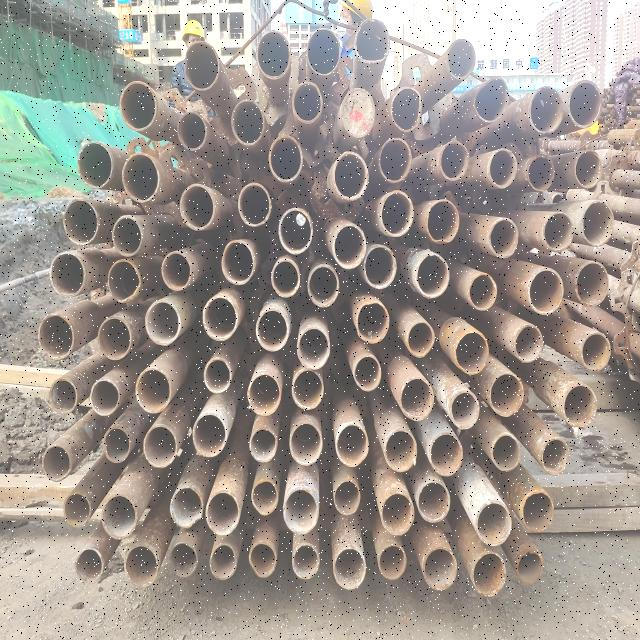pipe: (419, 432, 467, 484), (337, 85, 380, 137), (132, 368, 176, 418), (118, 78, 158, 132), (428, 138, 473, 186), (331, 150, 372, 202), (294, 320, 332, 374), (409, 250, 452, 296), (122, 152, 160, 204), (178, 184, 219, 232), (236, 181, 278, 227), (382, 429, 424, 475), (143, 299, 184, 346), (421, 546, 458, 598), (255, 29, 292, 80), (201, 294, 242, 340), (184, 41, 220, 93), (78, 140, 114, 192), (252, 302, 291, 350), (290, 418, 326, 470), (288, 80, 330, 124), (328, 220, 368, 266), (84, 376, 124, 422), (452, 329, 490, 377), (50, 250, 88, 298), (278, 204, 314, 254), (362, 246, 402, 291), (63, 198, 101, 245), (190, 412, 228, 459), (530, 264, 564, 316), (567, 78, 602, 128), (353, 19, 391, 65), (282, 488, 320, 534), (268, 134, 304, 182), (38, 312, 74, 359), (306, 28, 341, 76), (158, 252, 198, 294), (528, 86, 564, 132), (230, 100, 266, 146), (101, 493, 137, 539), (334, 421, 369, 468), (110, 217, 148, 260), (490, 372, 528, 415), (222, 238, 256, 286), (474, 76, 510, 121), (142, 424, 178, 469), (207, 488, 240, 536), (477, 501, 512, 546), (581, 201, 615, 247), (380, 191, 414, 237), (576, 261, 610, 307), (333, 546, 367, 592), (473, 552, 507, 598), (388, 89, 424, 132), (399, 379, 435, 422), (426, 200, 461, 244), (98, 317, 132, 362), (561, 384, 595, 429), (378, 138, 413, 181), (484, 146, 518, 190), (357, 300, 391, 344), (292, 368, 326, 412), (247, 373, 281, 417), (380, 490, 414, 534), (488, 432, 524, 473), (308, 264, 340, 310), (170, 486, 203, 530), (125, 546, 159, 588), (580, 330, 612, 374), (522, 491, 554, 535), (416, 481, 451, 521), (108, 263, 142, 303), (512, 323, 546, 362), (446, 37, 476, 81), (488, 217, 520, 258), (176, 111, 208, 151), (101, 424, 133, 464), (575, 148, 603, 192), (466, 272, 498, 310), (544, 212, 574, 252), (272, 258, 302, 298), (41, 444, 72, 482), (448, 392, 482, 426), (74, 548, 106, 584), (526, 154, 556, 192), (354, 356, 384, 394), (203, 356, 233, 394), (332, 478, 362, 516), (209, 543, 239, 581), (249, 427, 282, 461), (49, 377, 78, 415), (406, 321, 436, 357), (378, 544, 408, 580), (542, 438, 570, 476), (516, 548, 544, 586), (291, 544, 320, 580), (252, 480, 280, 516), (64, 492, 90, 530), (250, 544, 278, 578), (174, 542, 198, 574)
